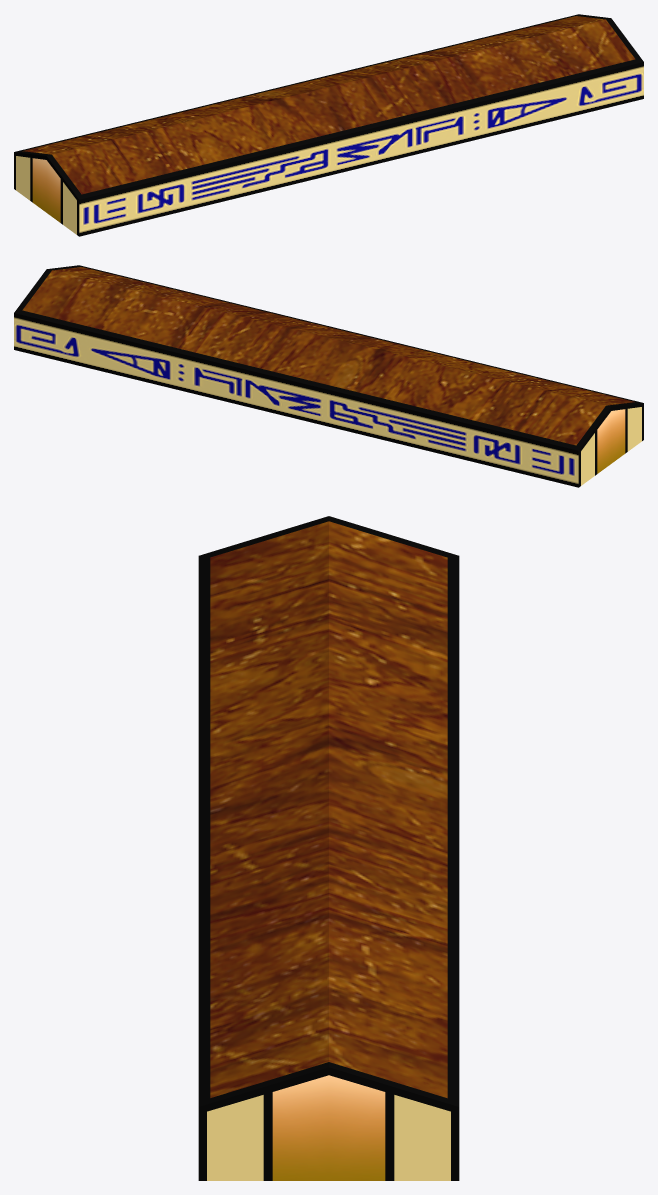
Rendered from jungle_floor_teeth.gltf.
3 views of the same model, one above another, from view 1: azimuth 30°, elevation 25°; view 2: azimuth 150°, elevation 25°; view 3: azimuth 270°, elevation 25° (orthographic). The views are drawn at different scales.
Parts seen in each view (by area): view 1: jungle_floor_teeth_glb; view 2: jungle_floor_teeth_glb; view 3: jungle_floor_teeth_glb.
Part boxes in pixels (bbox=[...]): jungle_floor_teeth_glb: bbox=[14, 14, 643, 236]; jungle_floor_teeth_glb: bbox=[14, 265, 643, 487]; jungle_floor_teeth_glb: bbox=[198, 516, 459, 1180].
Size of what is drawn, in the model's own units: 4 by 0.3849 by 0.8.
1 material, 1 textured.
